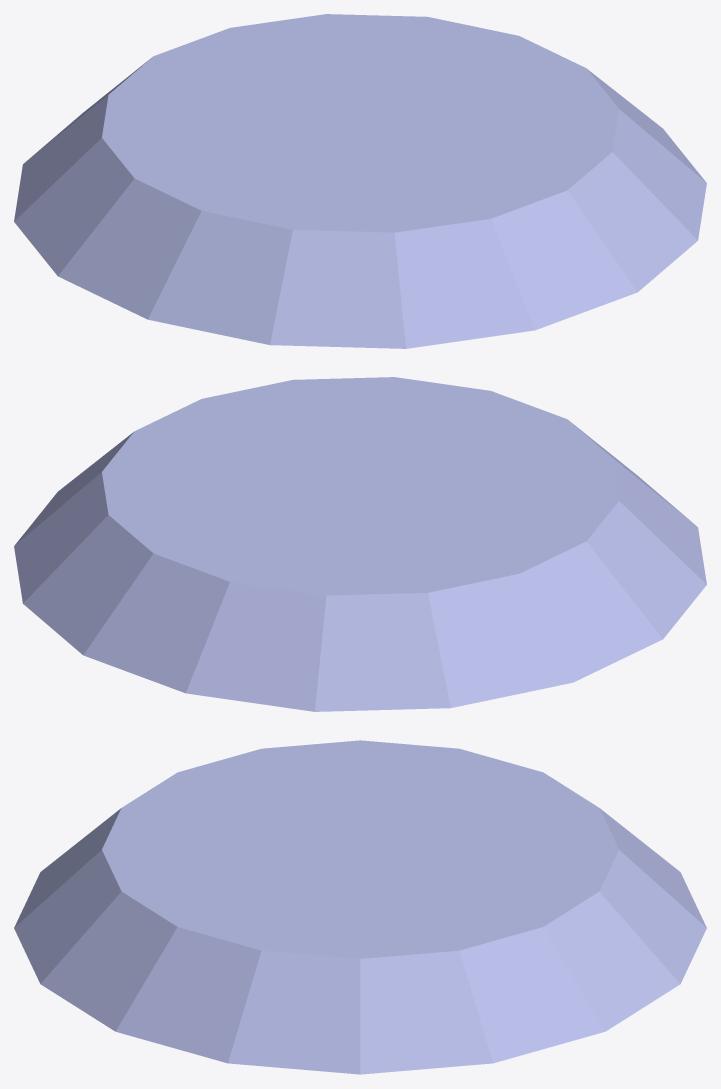
File: TowerBase.glb
3 renders of one model, top to bottom at view 1: azimuth 30°, elevation 25°; view 2: azimuth 150°, elevation 25°; view 3: azimuth 270°, elevation 25°, orthographic.
Parts seen in each view (by area): view 1: Cube; view 2: Cube; view 3: Cube.
Part boxes in pixels (x1,y1,x2,y2): Cube: (14, 14, 706, 348); Cube: (14, 377, 706, 711); Cube: (14, 740, 706, 1074).
Bounding box in the file's own units: 0.844 × 0.1055 × 0.844.
